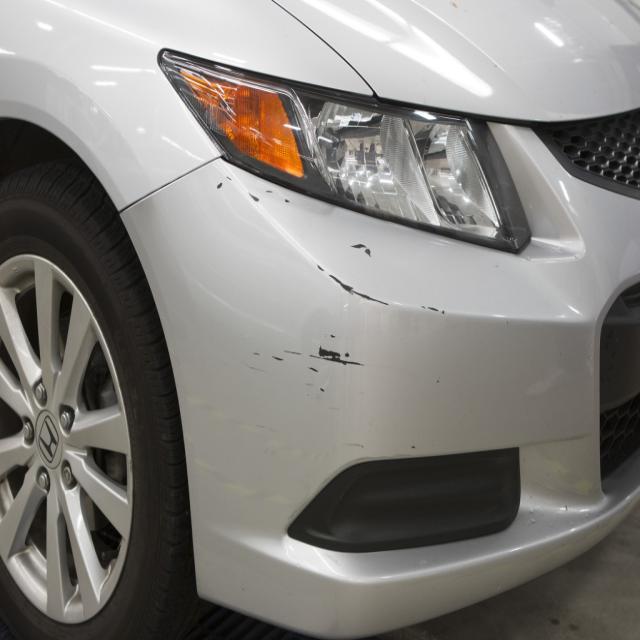Scratch: (313, 261, 395, 310), (282, 345, 360, 367)
